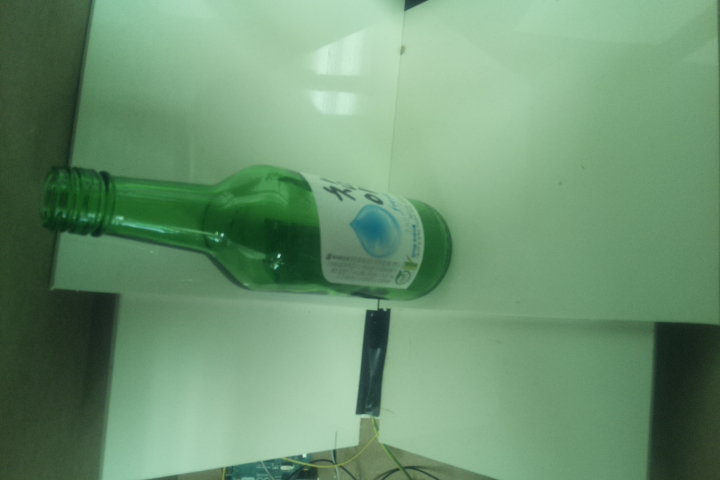soju: (42, 164, 455, 301)
